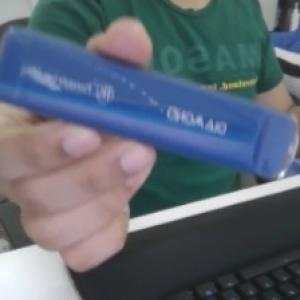Diamond-E-Ciggirate: (1, 24, 300, 182)
